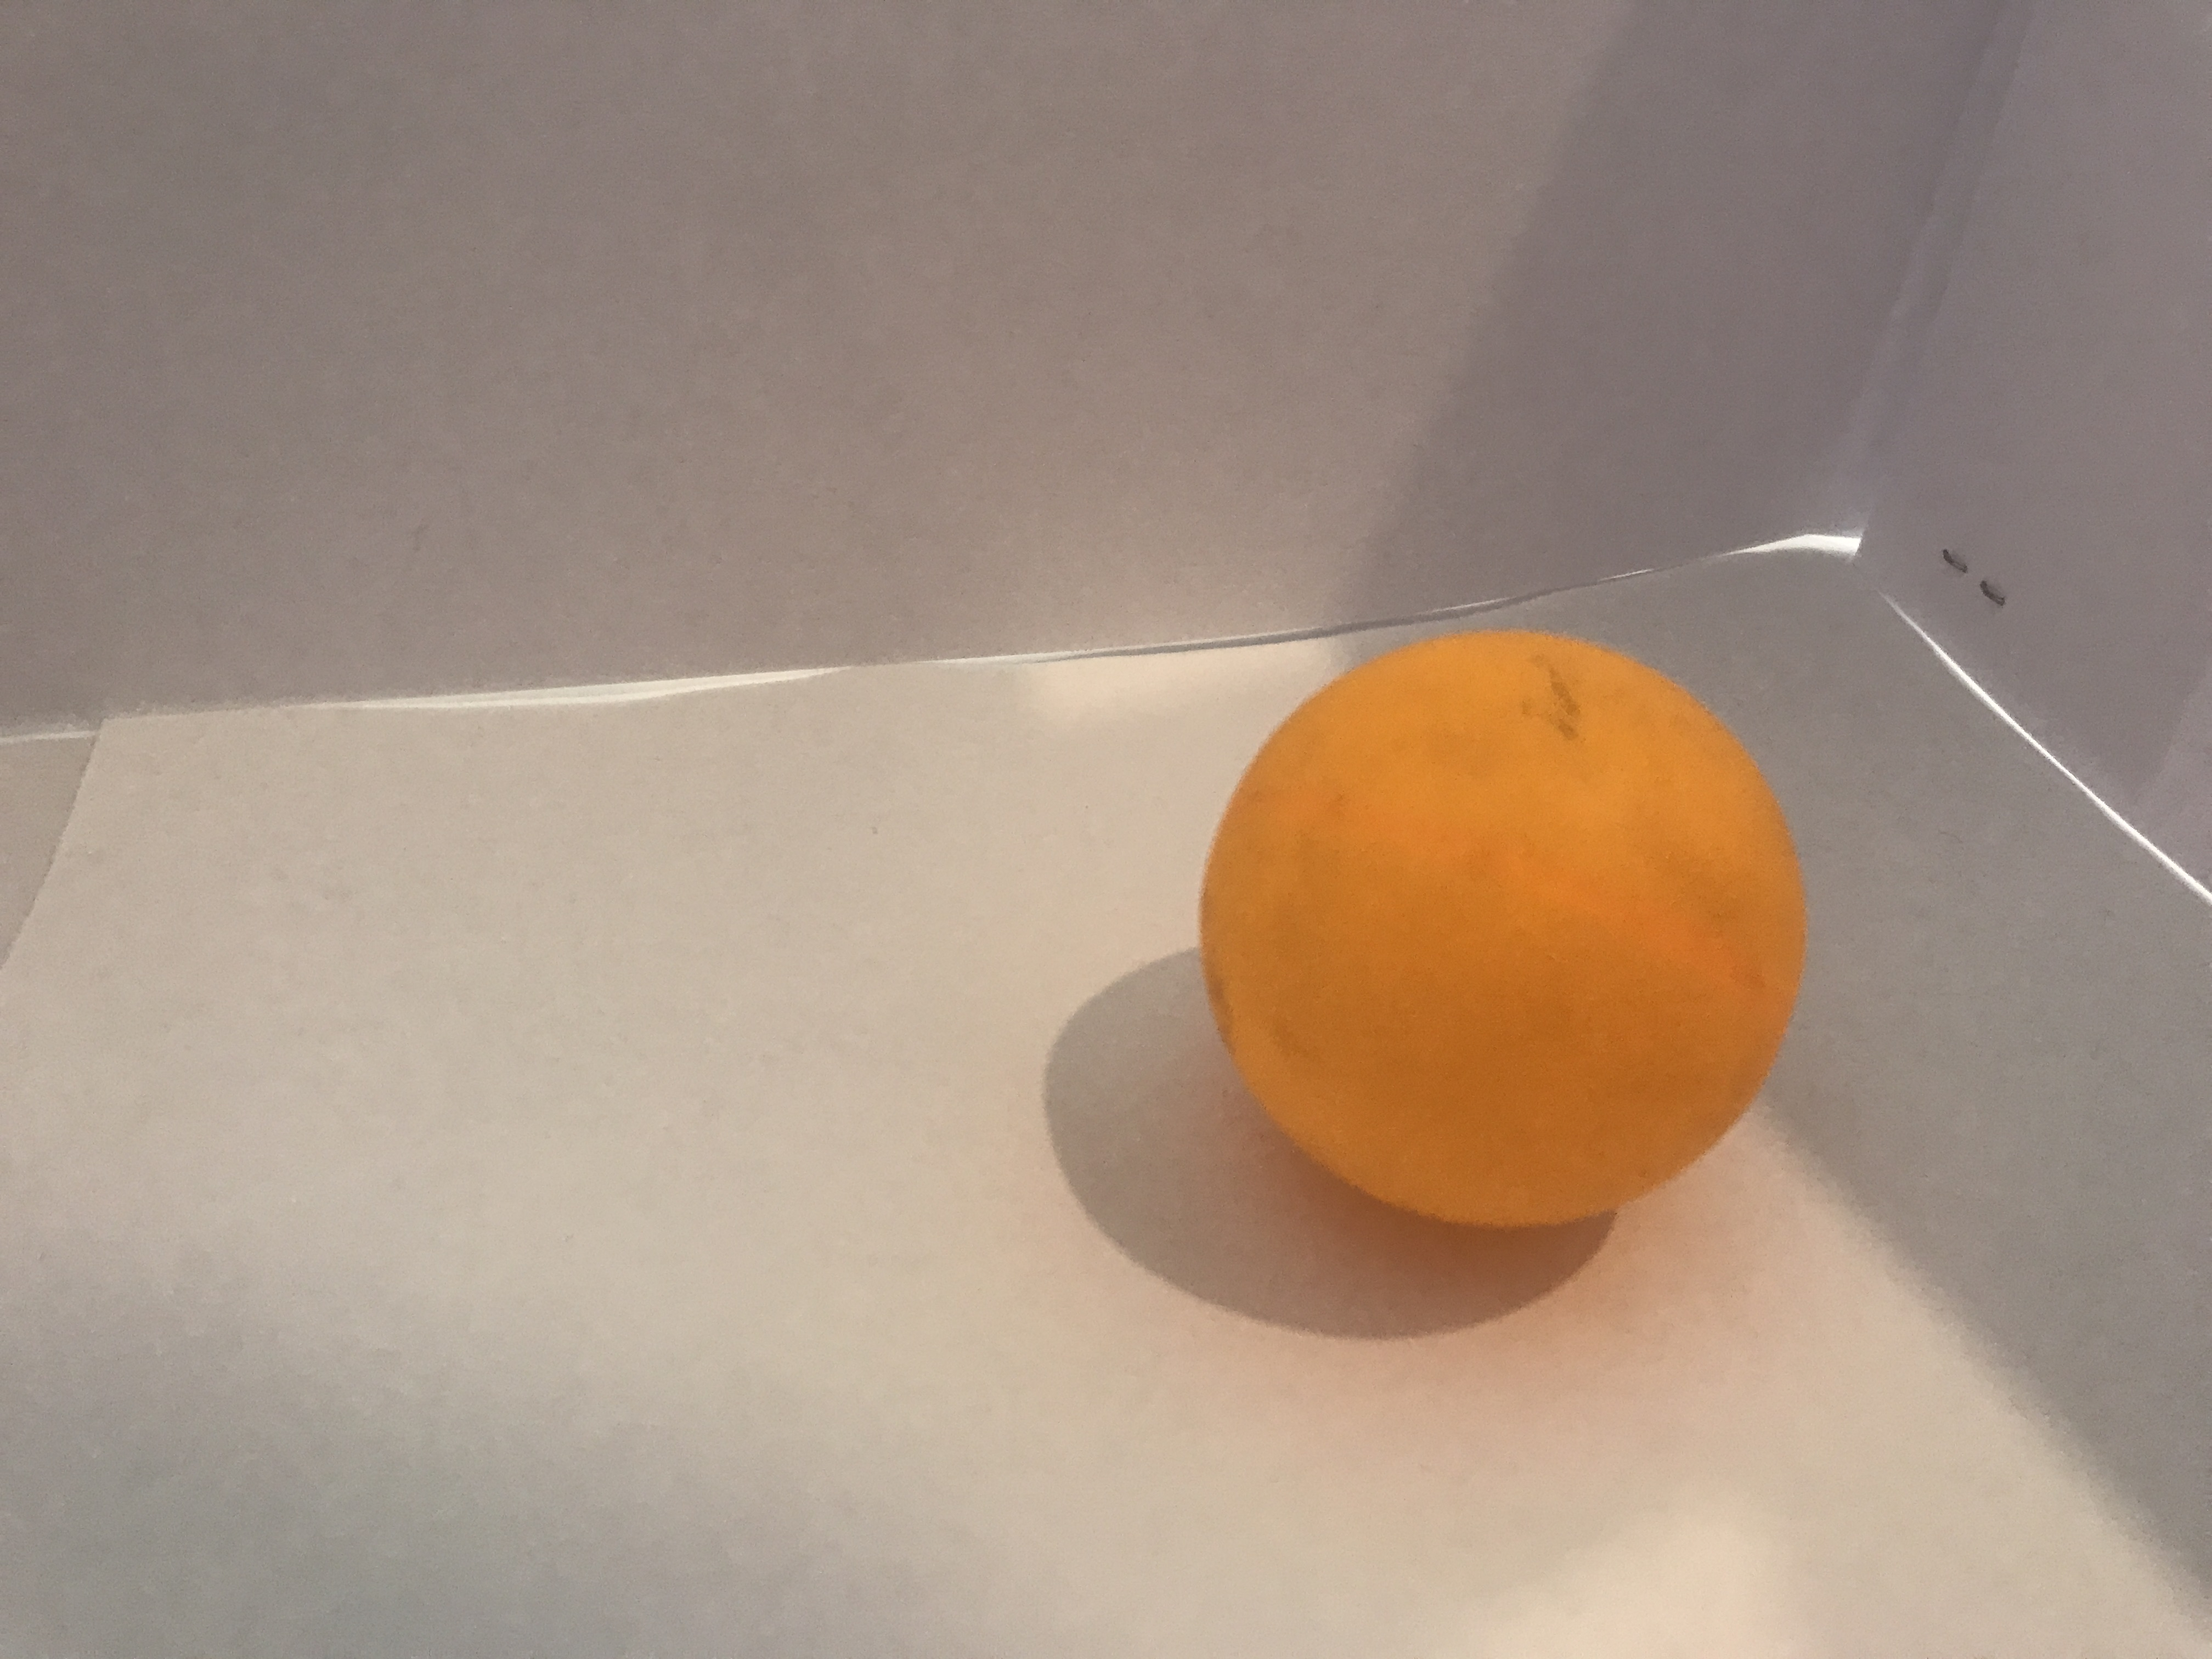pp: (1191, 606, 1836, 1263)
